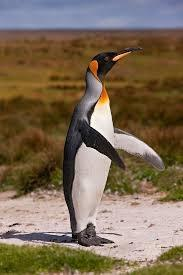king: (51, 35, 162, 245)
